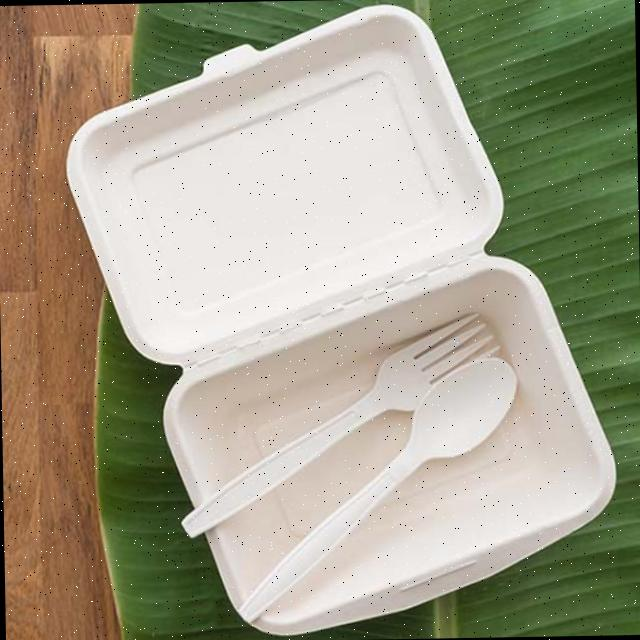styrofoam: (61, 0, 620, 639)
